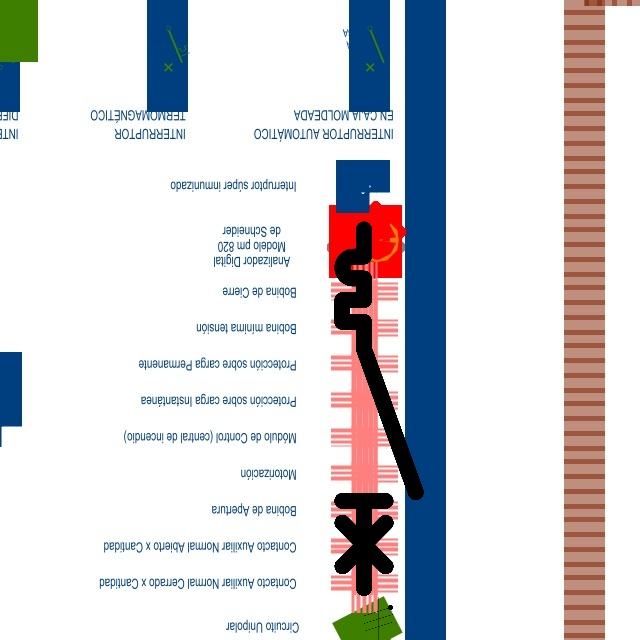interruptor_termomagnetico: (333, 220, 425, 597)
